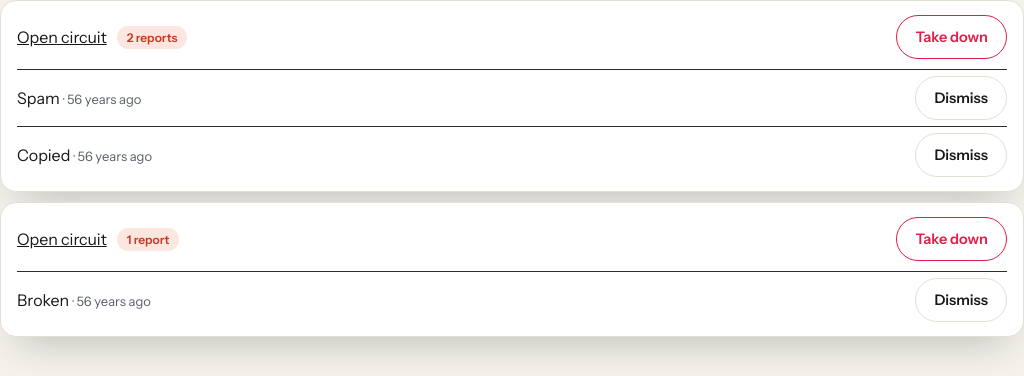
Test: ReportsSection › closes the reports when the circuit was already unshared
Click the button "Take down" in the row of "reports" at (952, 37), box [896, 15, 1007, 59]
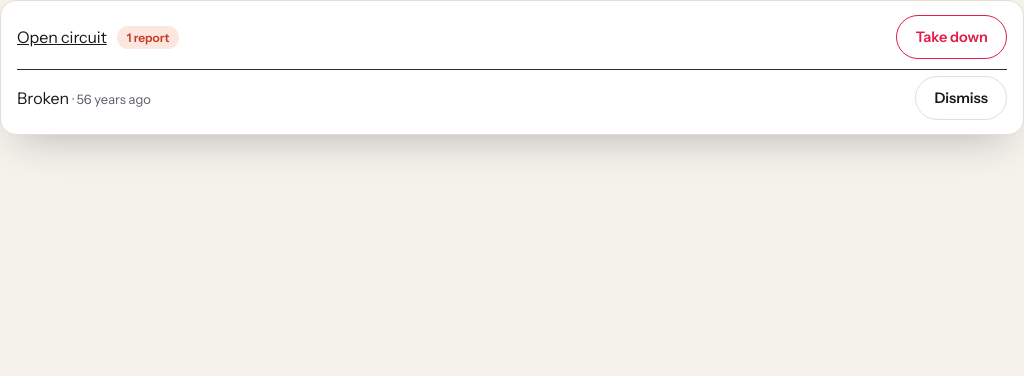
Expected: the text "Spam" is gone
